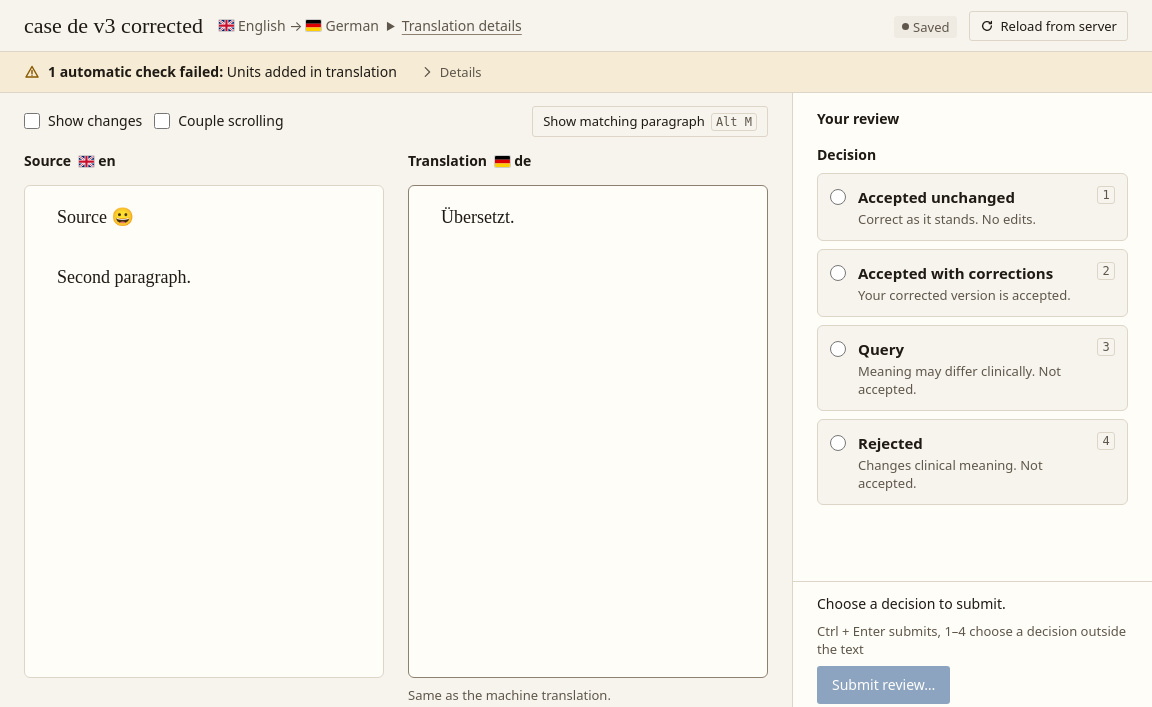
Test: submits a deliberately selected rejected through the real form and saver
Check: the text box named "Translation (de)" is shown, box [409,186,767,677]
Click the radio button labelled "Rejected" at (838, 443), box [830,435,846,451]
(page scrolled)
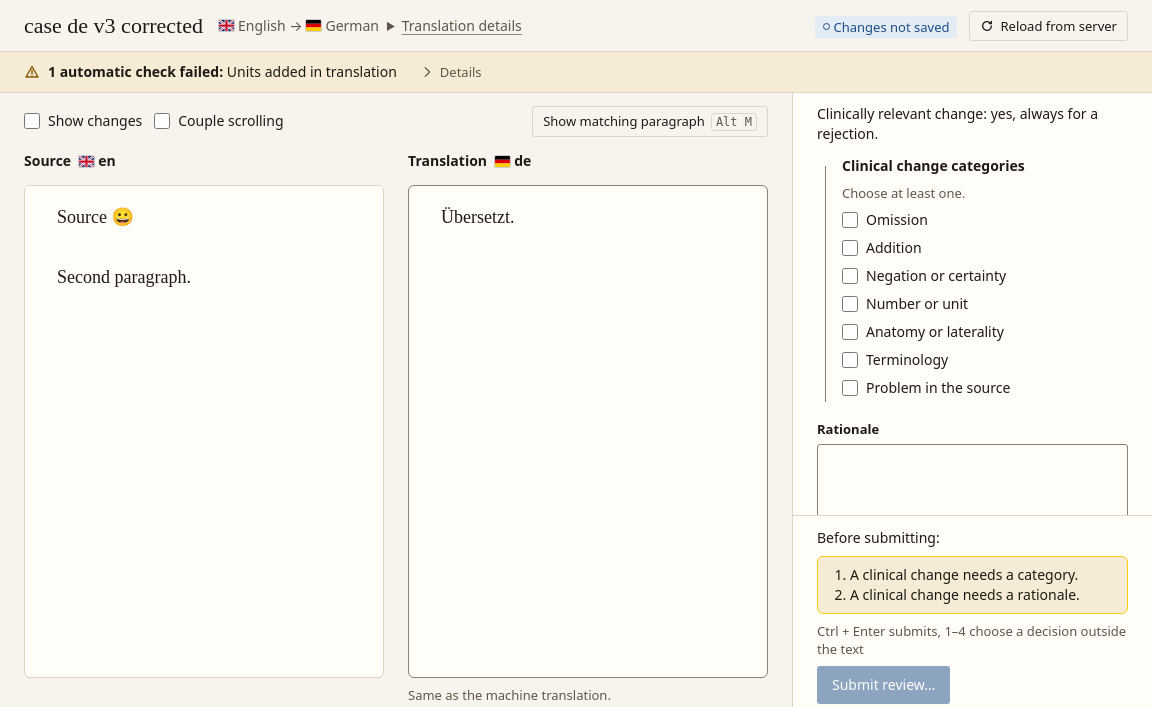
Click the checkbox labelled "Number or unit" at (850, 304), box [842,296,858,312]
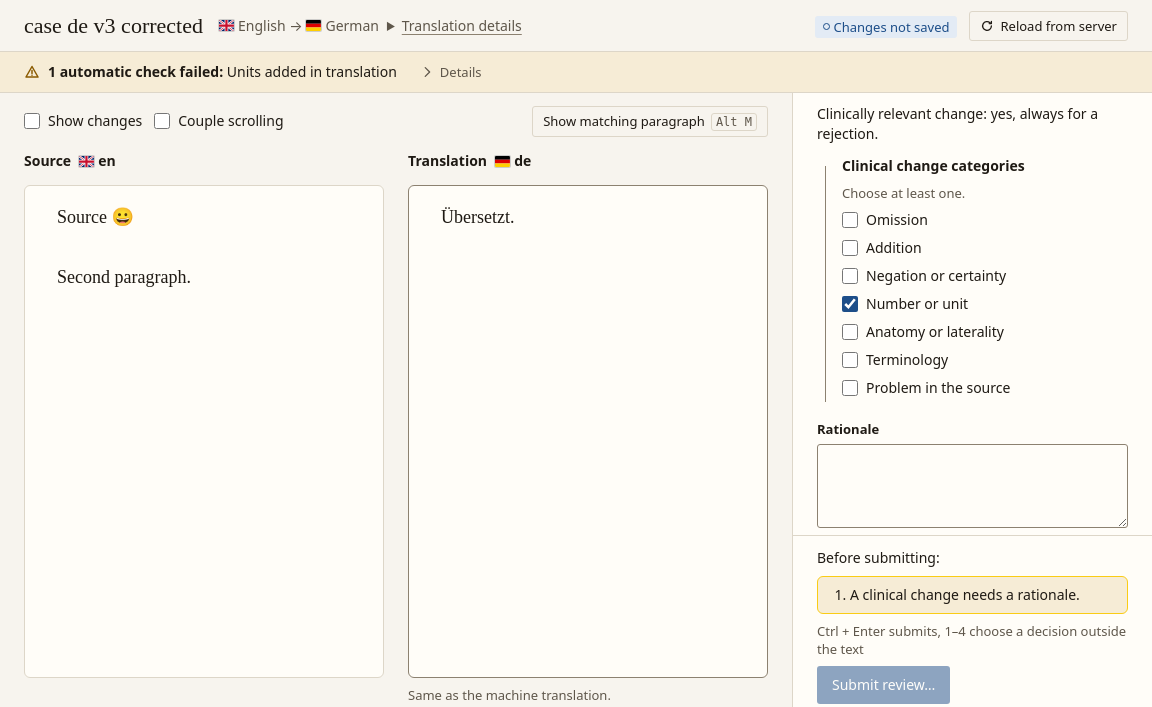
// The fixture failed an automatic check: accepting it unchanged needs a rationale (R-12).
Type "Check the dose" into the text box labelled "Rationale" at (972, 486), box [817,444,1128,528]
Wait 800 ms
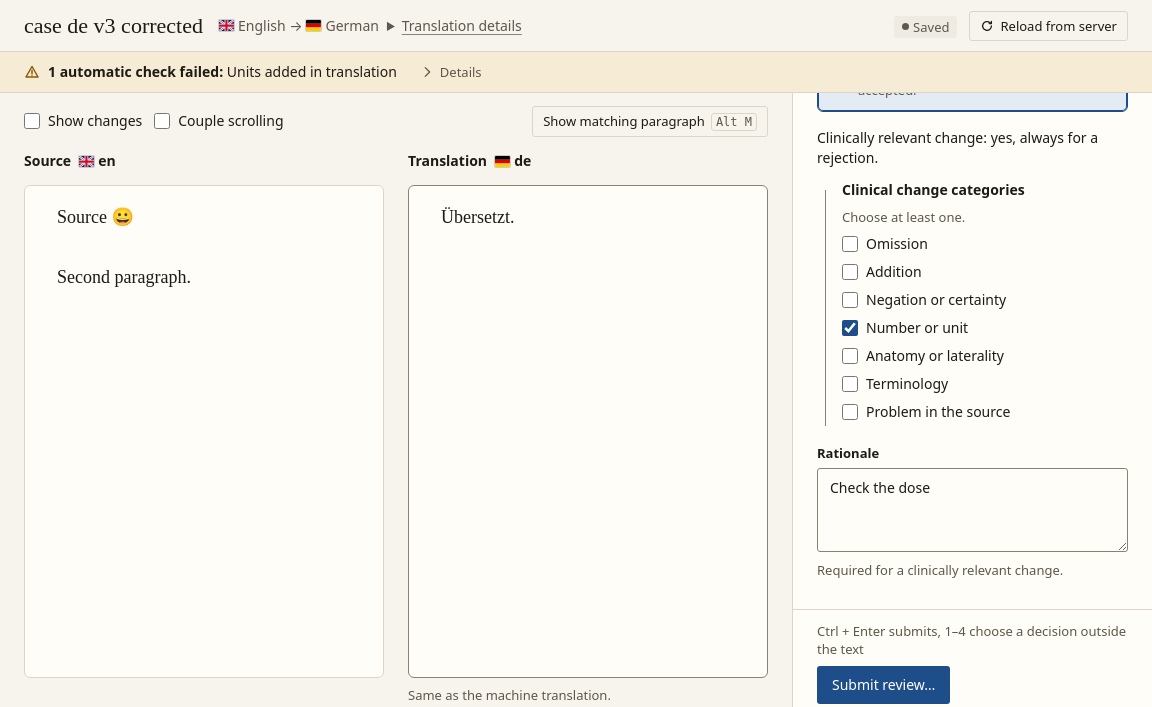
Check: the button "Submit review…" does not have attribute aria-disabled
Click the button "Submit review…" at (884, 685), box [817,666,950,704]
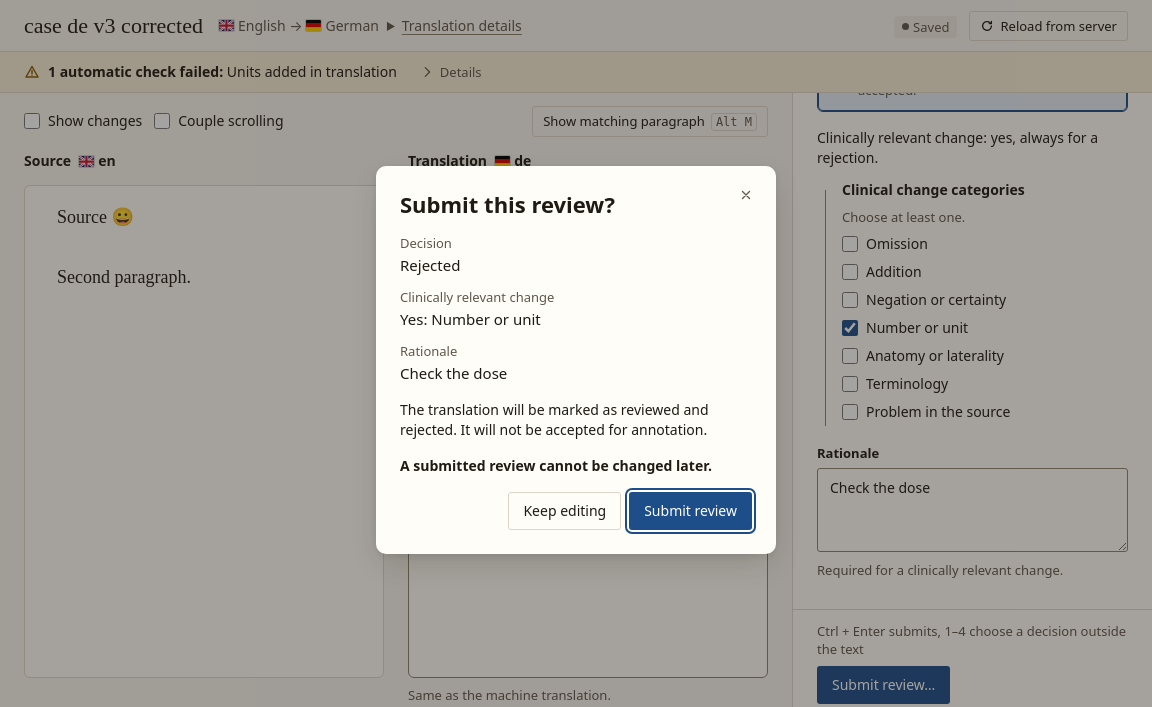
Click the button "Submit review" at (691, 511), box [629,492,752,530]
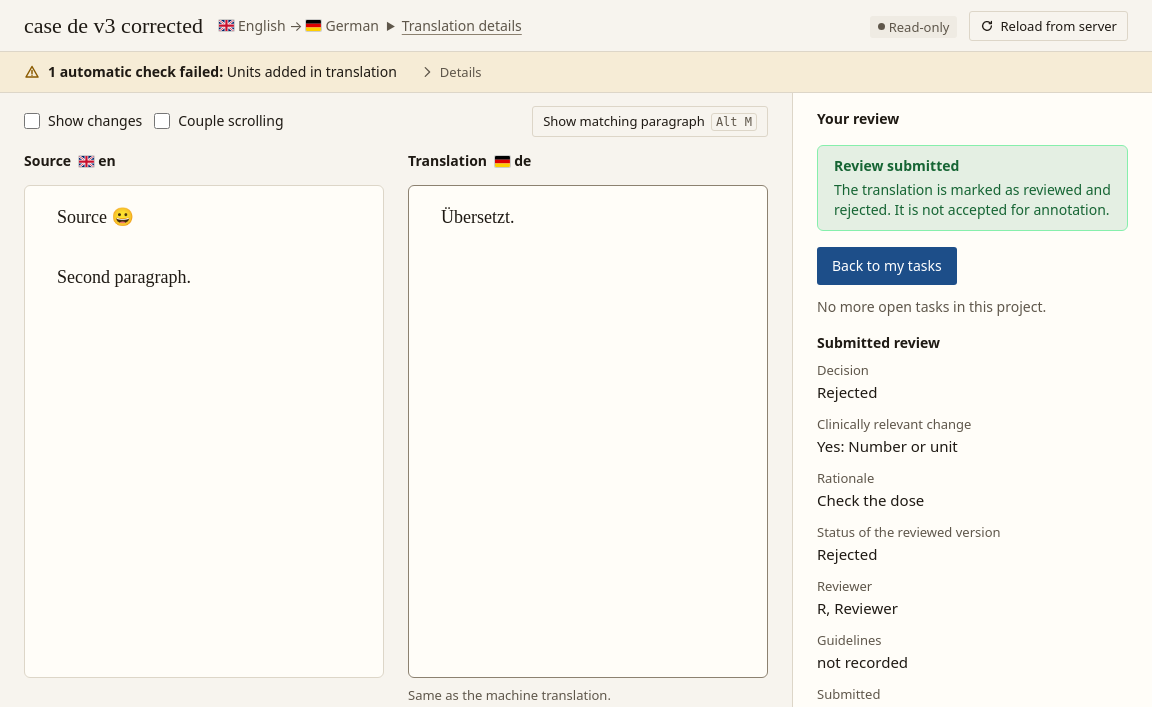
Check: the text "Rejected" below "Decision" is shown, box [817,382,877,402]
Check: the text "Review submitted" is shown, box [834,156,959,175]
Check: the dialog is gone
